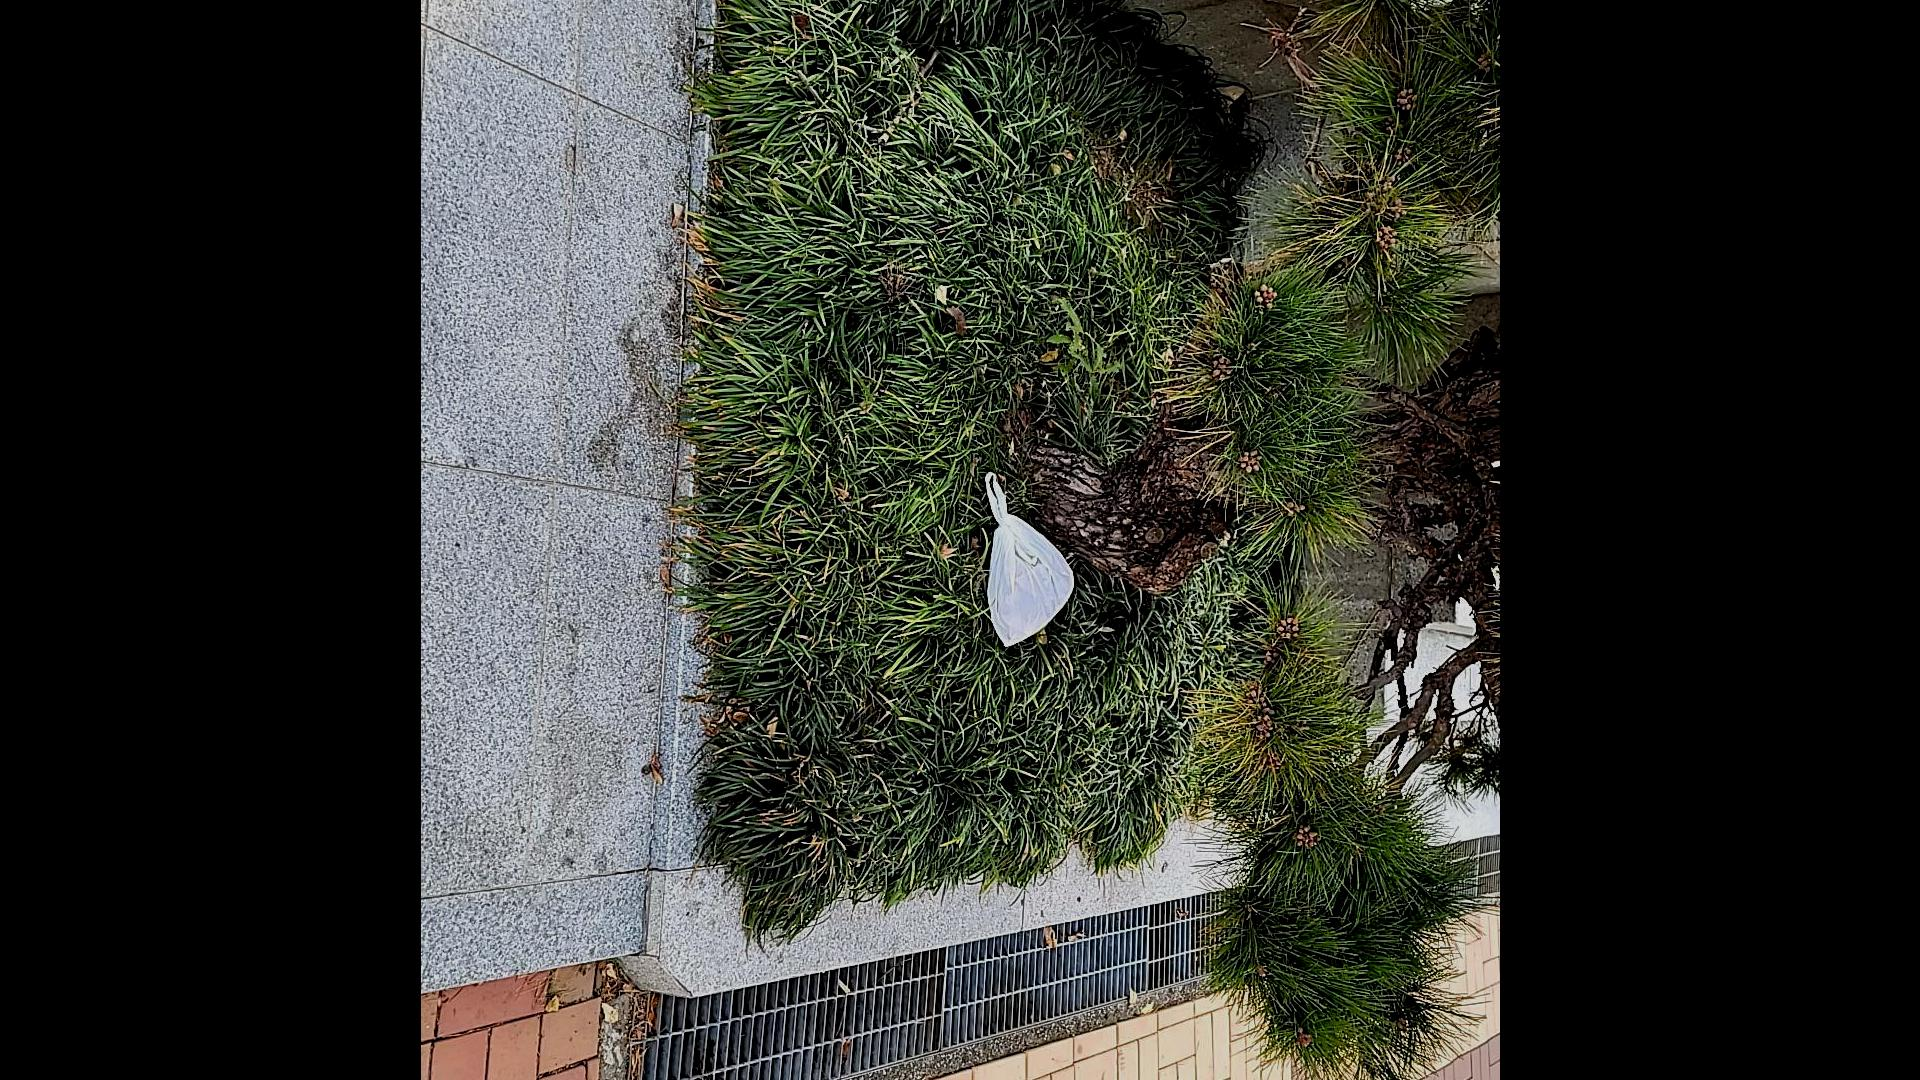white_bag: (969, 462, 1081, 650)
